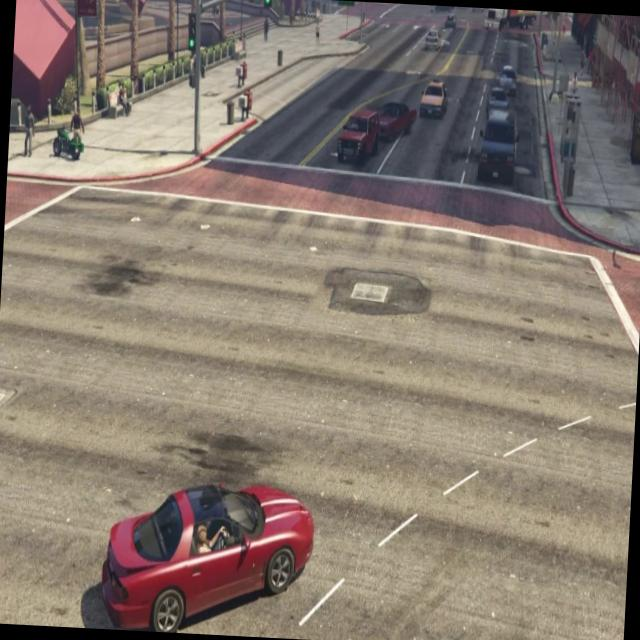Green-Signal: (183, 5, 200, 65), (334, 0, 358, 14), (259, 0, 275, 19)
